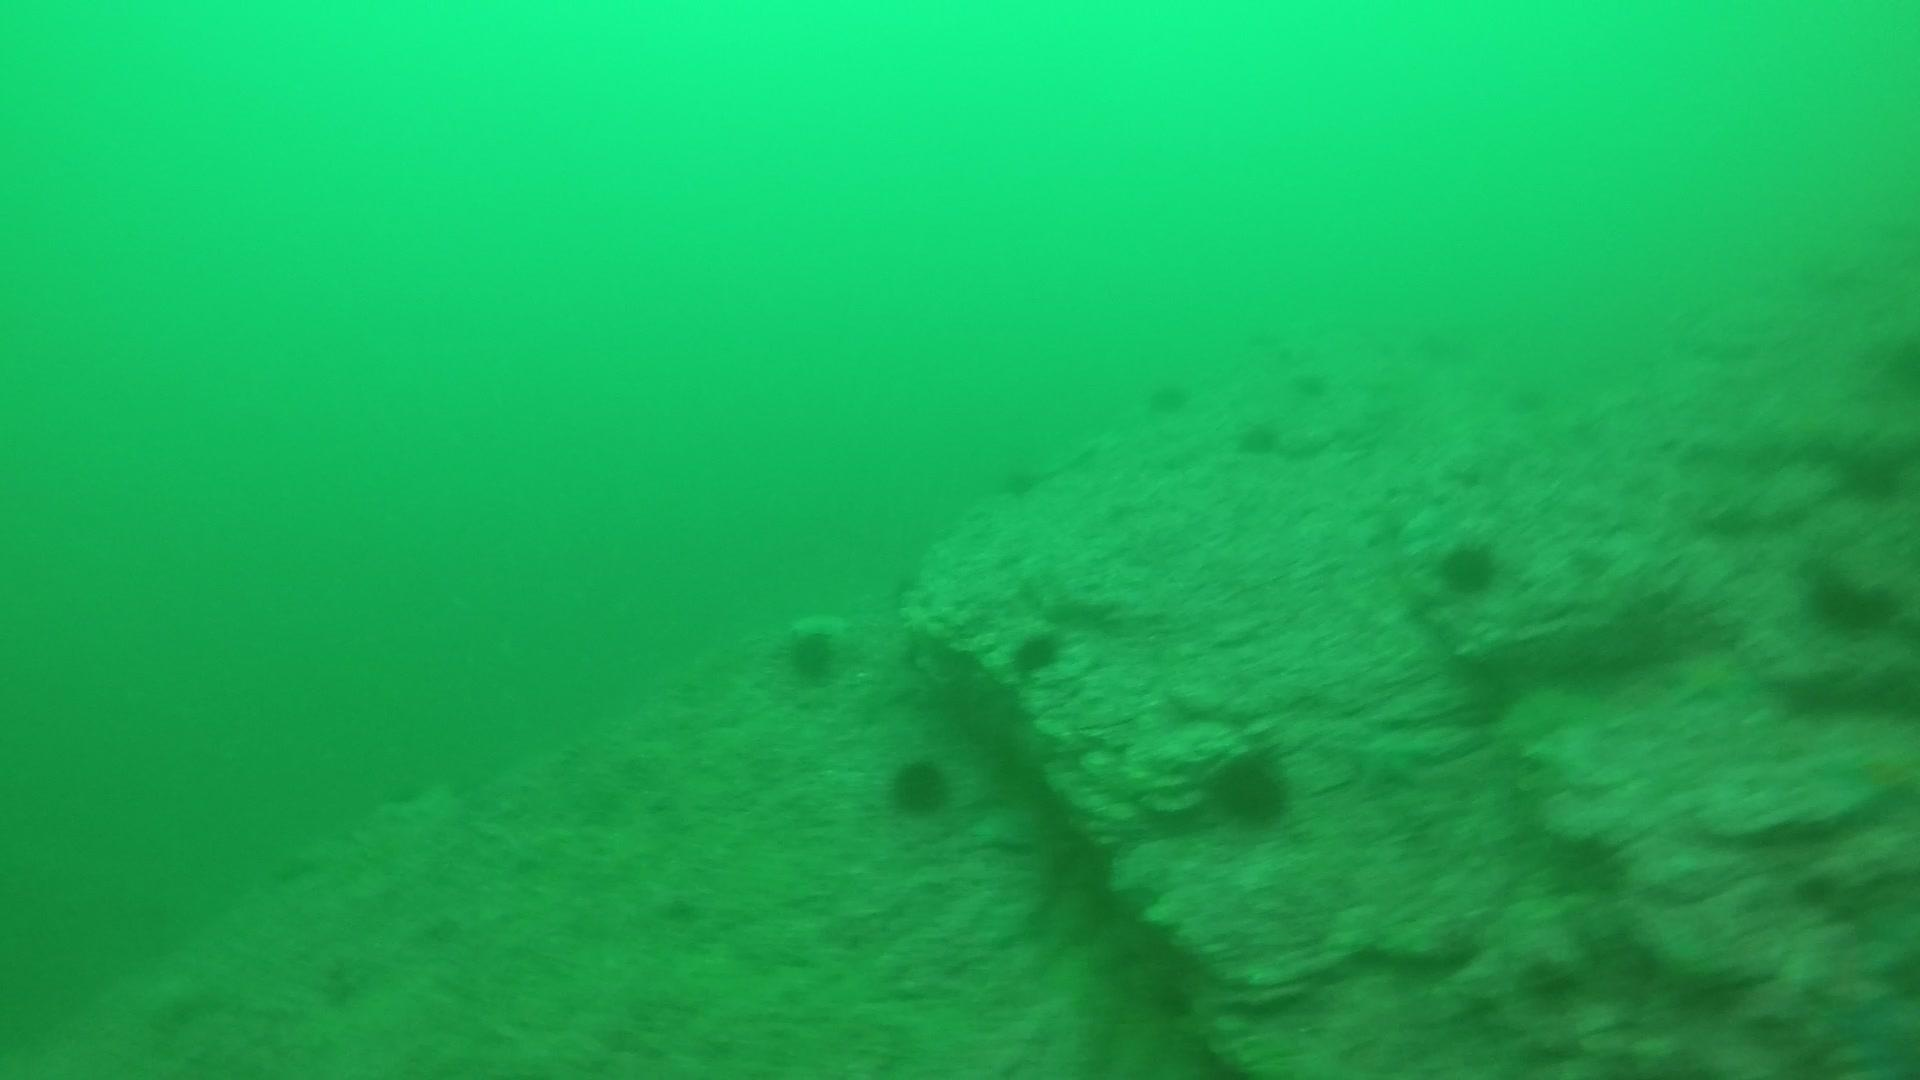echinus: (1203, 741, 1298, 832), (1800, 560, 1902, 640), (880, 750, 957, 822), (1431, 531, 1507, 600), (775, 618, 848, 688), (1005, 622, 1069, 680), (1280, 363, 1335, 410), (1232, 414, 1284, 462), (1142, 372, 1195, 419)
starfish: (1660, 641, 1759, 711)
